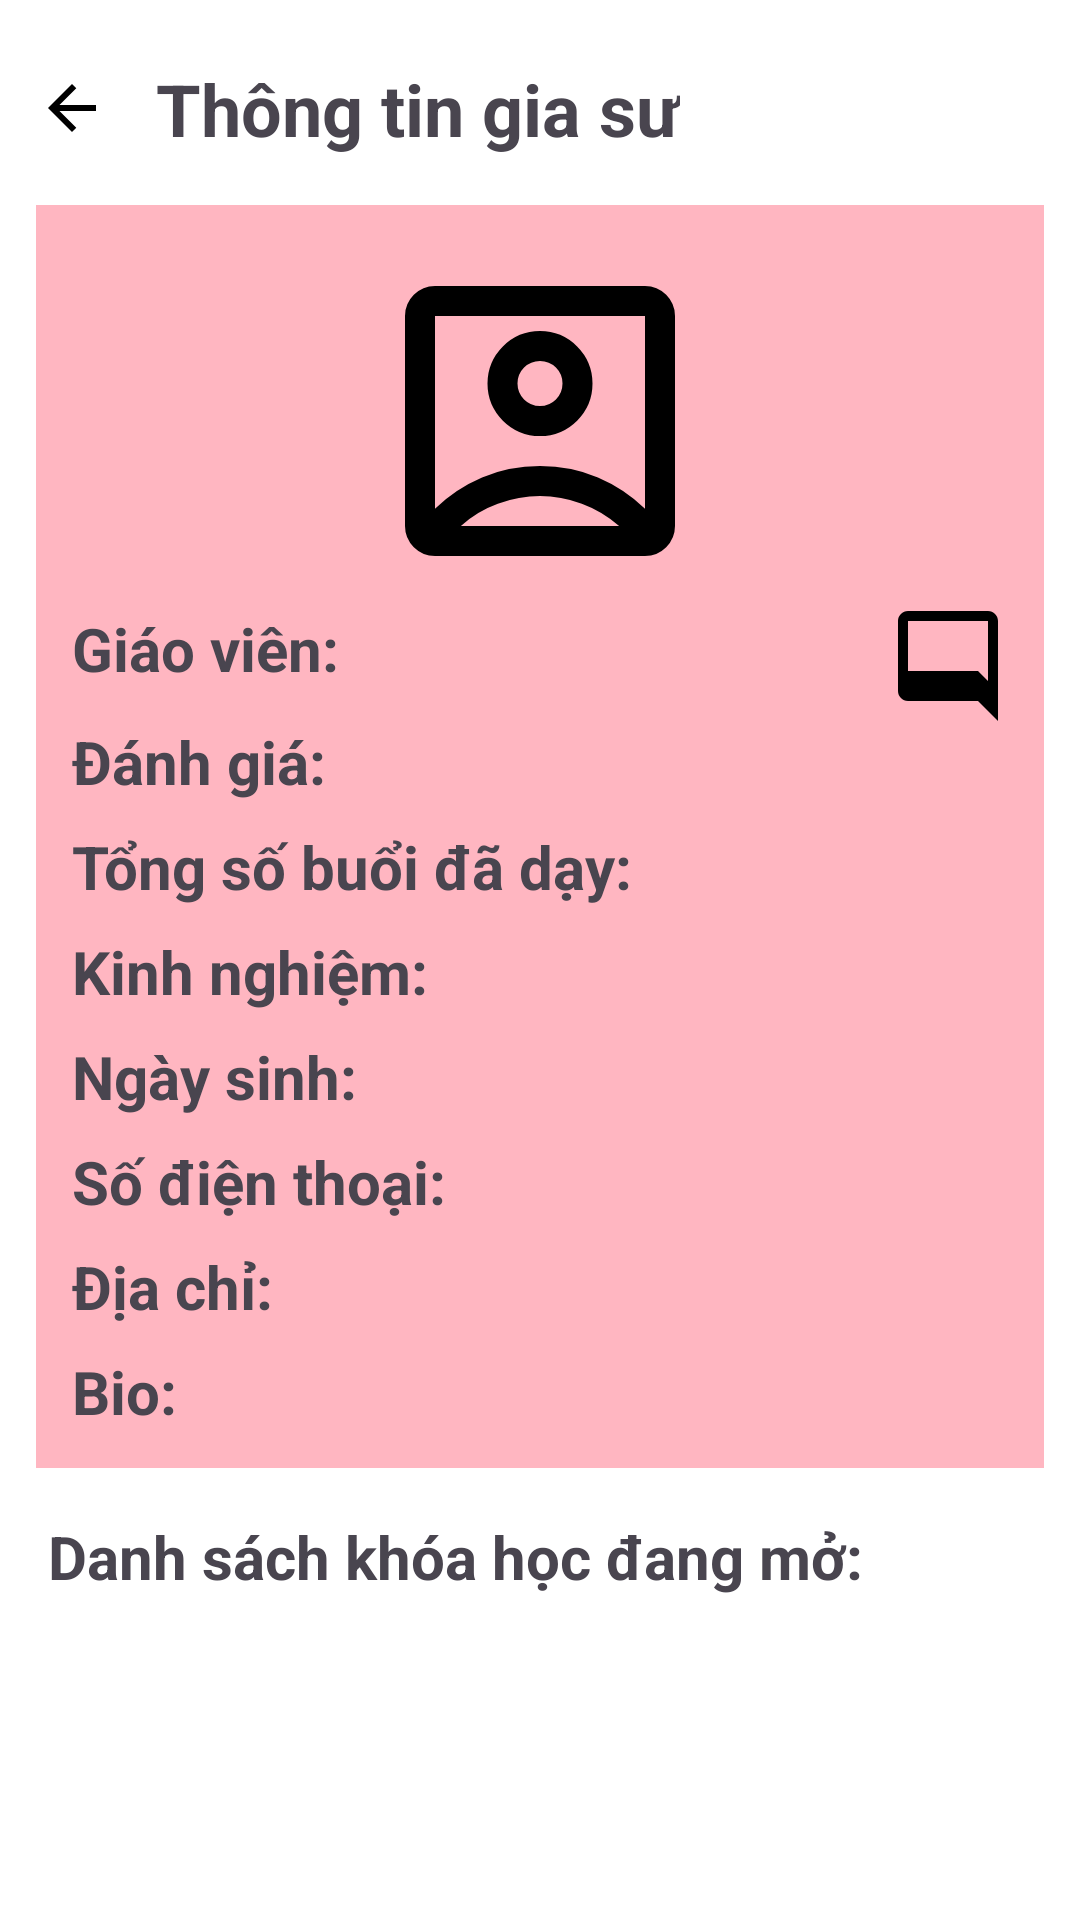

Point at icon controls on the screen. Image size 1080w x 1920h, points as point (x, y).
account box: point (540, 421)
message: point (948, 666)
Quay lại: point (72, 108)
